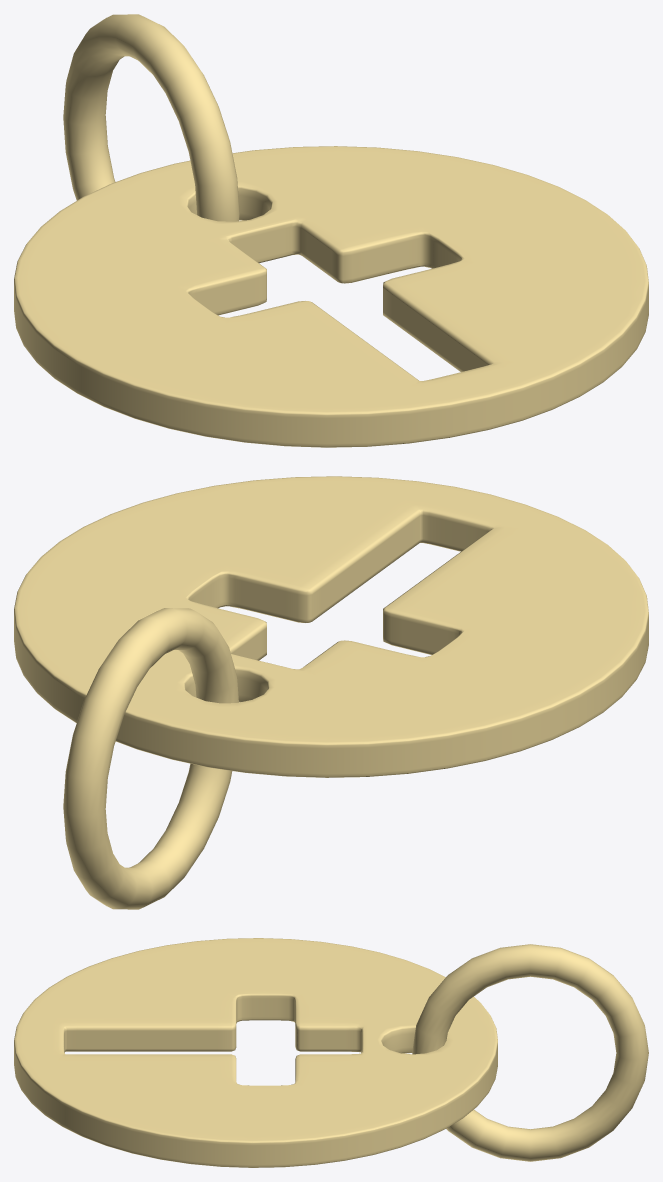
The model's file is Blessed_Disc.glb.
The picture shows the model from 3 angles, top to bottom: view 1: azimuth 30°, elevation 25°; view 2: azimuth 150°, elevation 25°; view 3: azimuth 270°, elevation 25°; orthographic projection. The views are drawn at different scales.
Parts seen in each view (by area): view 1: Blessed_Disc; view 2: Blessed_Disc; view 3: Blessed_Disc.
Boxes of the visible parts, x1=… form: Blessed_Disc: x1=14, y1=14, x2=648, y2=447; Blessed_Disc: x1=14, y1=476, x2=648, y2=909; Blessed_Disc: x1=14, y1=938, x2=648, y2=1167.
Bounding box in the file's own units: 0.0119 × 0.0058 × 0.0155.
